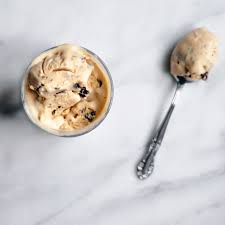ice-cream: (25, 49, 107, 131), (169, 28, 217, 82)
